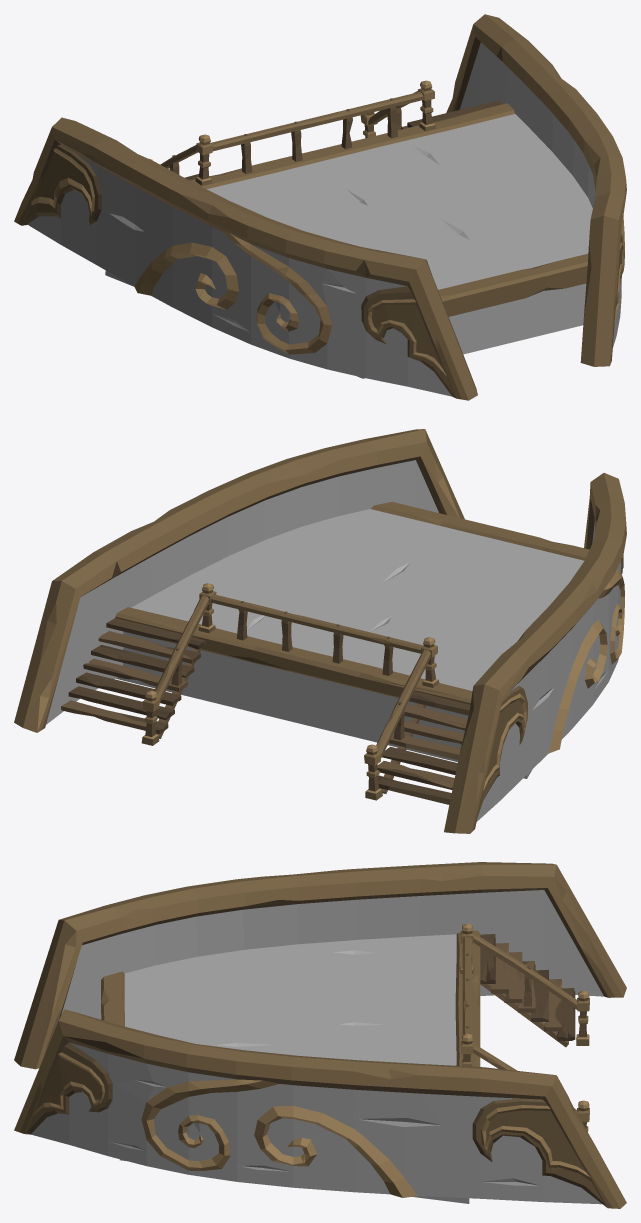
The model's file is SM_Veh_Ship_L_Front_02.fbx.
3 views of the same model, one above another, from view 1: azimuth 30°, elevation 25°; view 2: azimuth 150°, elevation 25°; view 3: azimuth 270°, elevation 25° (orthographic). The views are drawn at different scales.
Visible parts, largest first — view 1: SM_Veh_Ship_L_Front_02; view 2: SM_Veh_Ship_L_Front_02; view 3: SM_Veh_Ship_L_Front_02.
Part boxes in pixels (x1=…): SM_Veh_Ship_L_Front_02: x1=14, y1=14, x2=626, y2=400; SM_Veh_Ship_L_Front_02: x1=14, y1=429, x2=626, y2=833; SM_Veh_Ship_L_Front_02: x1=14, y1=862, x2=626, y2=1208.
Size of the model in its own units: 1016 by 287 by 1159.
